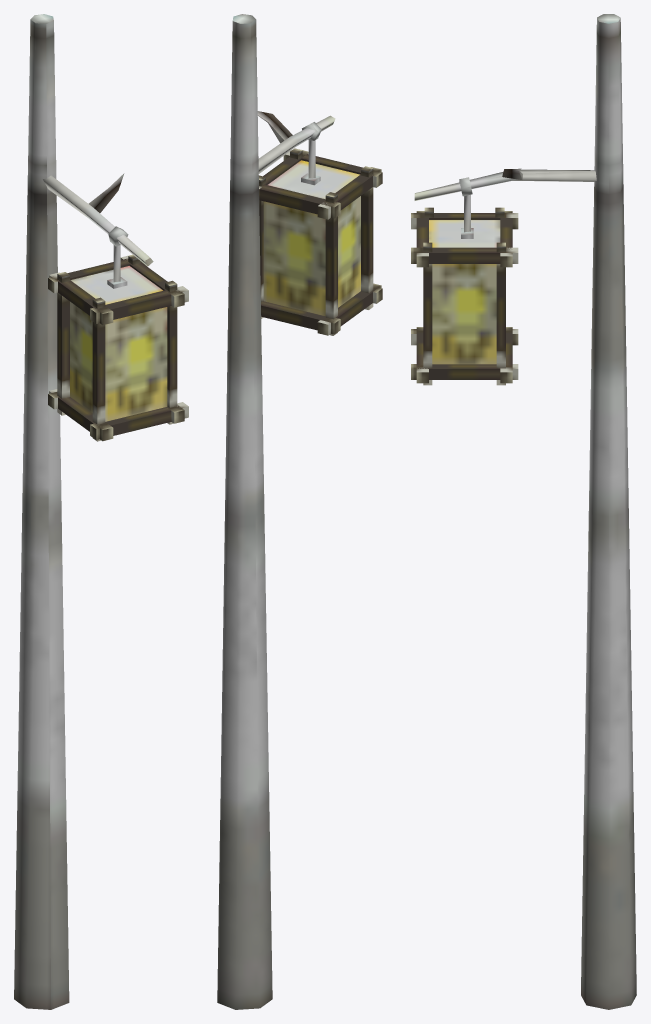
The picture shows the model from 3 angles, left to right: view 1: azimuth 30°, elevation 25°; view 2: azimuth 150°, elevation 25°; view 3: azimuth 270°, elevation 25°; orthographic projection.
Parts seen in each view (by area): view 1: jomyoung08; view 2: jomyoung08; view 3: jomyoung08.
Boxes of the visible parts, x1,y1,x2,y2 form: jomyoung08: [14, 14, 188, 1009]; jomyoung08: [217, 14, 382, 1009]; jomyoung08: [411, 14, 636, 1009].
Bounding box in the file's own units: 0.606 × 6.11 × 1.28.
